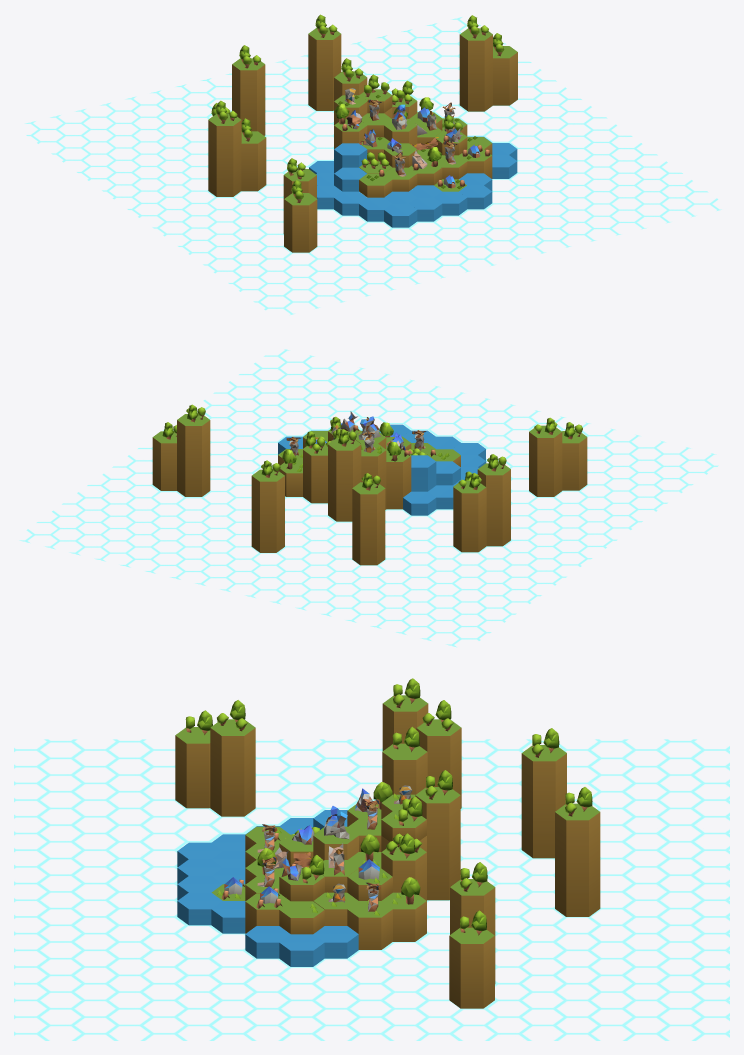
File: GameLevel_presentterreno.glb
The picture shows the model from 3 angles, top to bottom: view 1: azimuth 30°, elevation 25°; view 2: azimuth 150°, elevation 25°; view 3: azimuth 270°, elevation 25°; orthographic projection. The views are drawn at different scales.
Visible parts, largest first — view 1: Plane, Circle.052, Circle.047, Circle.021, Circle.050, Circle.048, Circle.045, Circle.051, Circle.010, Circle.031, Circle.027, Circle.049 (+14 smaller); view 2: Plane, Circle.050, Circle.021, Circle.052, Circle.023, Circle.046, Circle.049, Circle.047, Circle.048, Circle.051, Circle.001, Circle.004 (+6 smaller); view 3: Plane, Circle.021, Circle.050, Circle.049, Circle.023, Circle.051, Circle.048, Circle.046, Circle.045, Circle.052, Circle.014, Circle.015 (+18 smaller).
Part boxes in pixels (x1,y1,x2,y2): Plane: (25, 17, 721, 314); Circle.052: (459, 28, 492, 111); Circle.047: (208, 113, 241, 196); Circle.021: (308, 27, 341, 110); Circle.050: (232, 58, 265, 135); Circle.048: (284, 193, 317, 252); Circle.045: (241, 131, 266, 191); Circle.051: (493, 46, 517, 105); Circle.010: (334, 143, 367, 173); Circle.031: (384, 203, 417, 227); Circle.027: (359, 173, 392, 197); Circle.049: (283, 169, 316, 233); Plane: (19, 349, 718, 647); Circle.050: (352, 482, 385, 565); Circle.021: (251, 469, 284, 552); Circle.052: (177, 414, 210, 496); Circle.023: (328, 438, 361, 521); Circle.046: (453, 481, 486, 552); Circle.049: (529, 425, 562, 496); Circle.047: (477, 463, 510, 546); Circle.048: (562, 431, 587, 490); Circle.051: (152, 431, 176, 490); Circle.001: (303, 443, 327, 503); Circle.004: (386, 449, 411, 509); Plane: (14, 739, 729, 1040); Circle.021: (555, 803, 600, 916); Circle.050: (521, 745, 566, 858); Circle.049: (210, 719, 255, 816); Circle.023: (415, 787, 460, 900); Circle.051: (449, 927, 494, 1008); Circle.048: (175, 727, 210, 808); Circle.046: (416, 719, 461, 808); Circle.045: (382, 743, 427, 794); Circle.052: (450, 879, 495, 983); Circle.014: (347, 901, 392, 949); Circle.015: (382, 892, 426, 941).
Size of the model in its own units: 39.89 by 7.48 by 40.02.
Materials: 2 (2 with a texture image).
